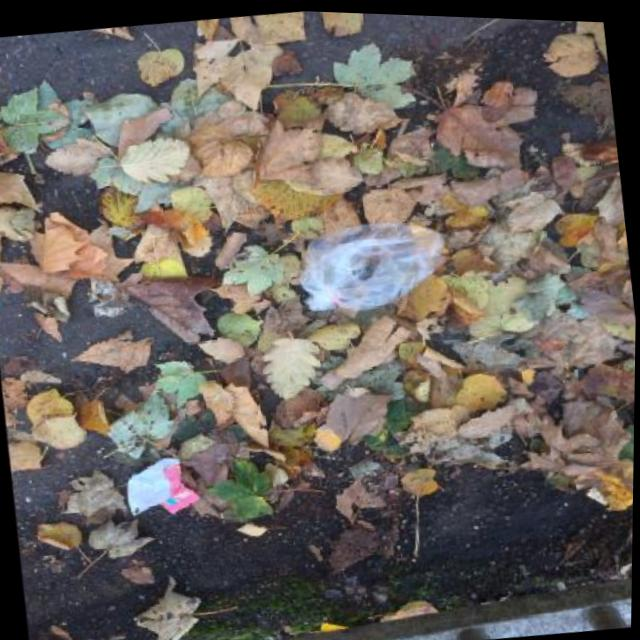plastic: (290, 210, 455, 320), (119, 452, 201, 522)
